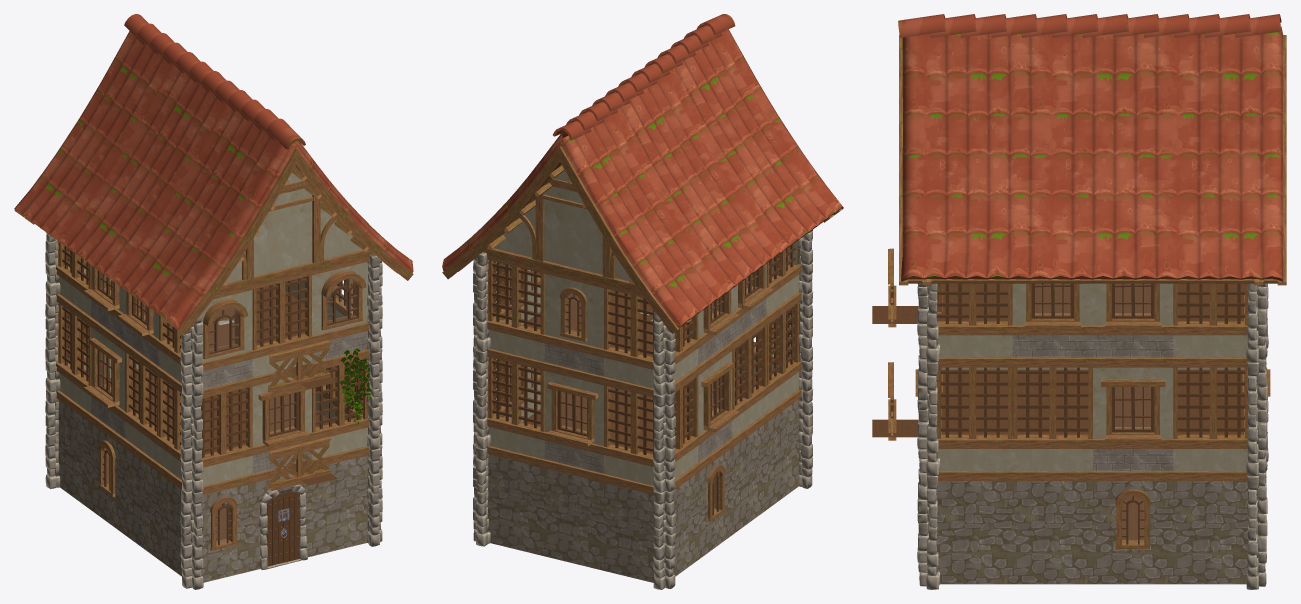
The model's file is house_shop_narrow_4.gltf.
3 renders of one model, left to right at view 1: azimuth 30°, elevation 25°; view 2: azimuth 150°, elevation 25°; view 3: azimuth 270°, elevation 25°, orthographic. The views are drawn at different scales.
Parts seen in each view (by area): view 1: House; view 2: House; view 3: House.
Part boxes in pixels (x1,y1,x2,y2): House: (14,14,413,589); House: (442,14,843,589); House: (872,14,1286,589).
Size of what is drawn, in the model's own units: 8.25 by 14.26 by 10.33.
10 materials, 9 textured.
